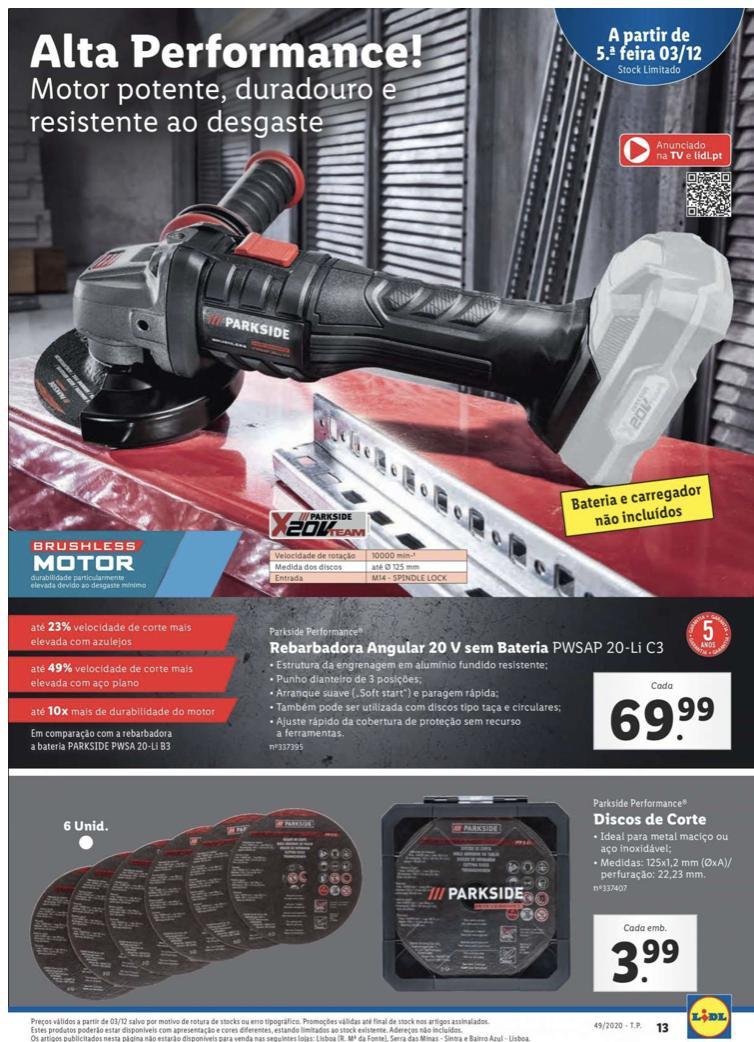name: (264, 636, 556, 660), (592, 811, 718, 833)
price: (606, 692, 716, 745), (607, 936, 683, 986)
product: (18, 24, 748, 763), (14, 781, 747, 999)
